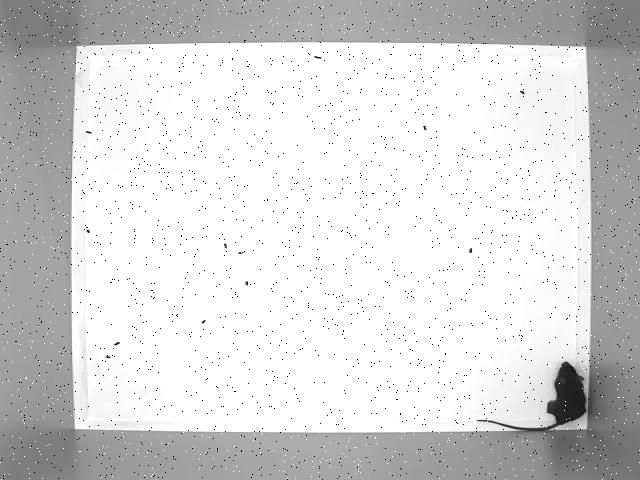Tikus: (472, 354, 590, 434)
